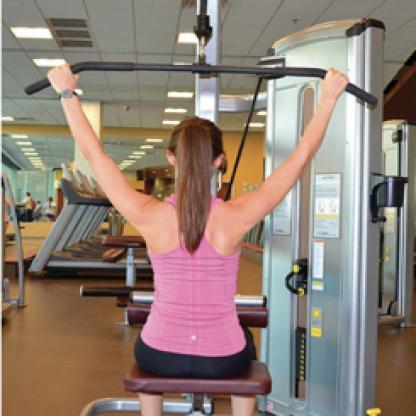Lat Pull Down: (20, 0, 410, 416)
